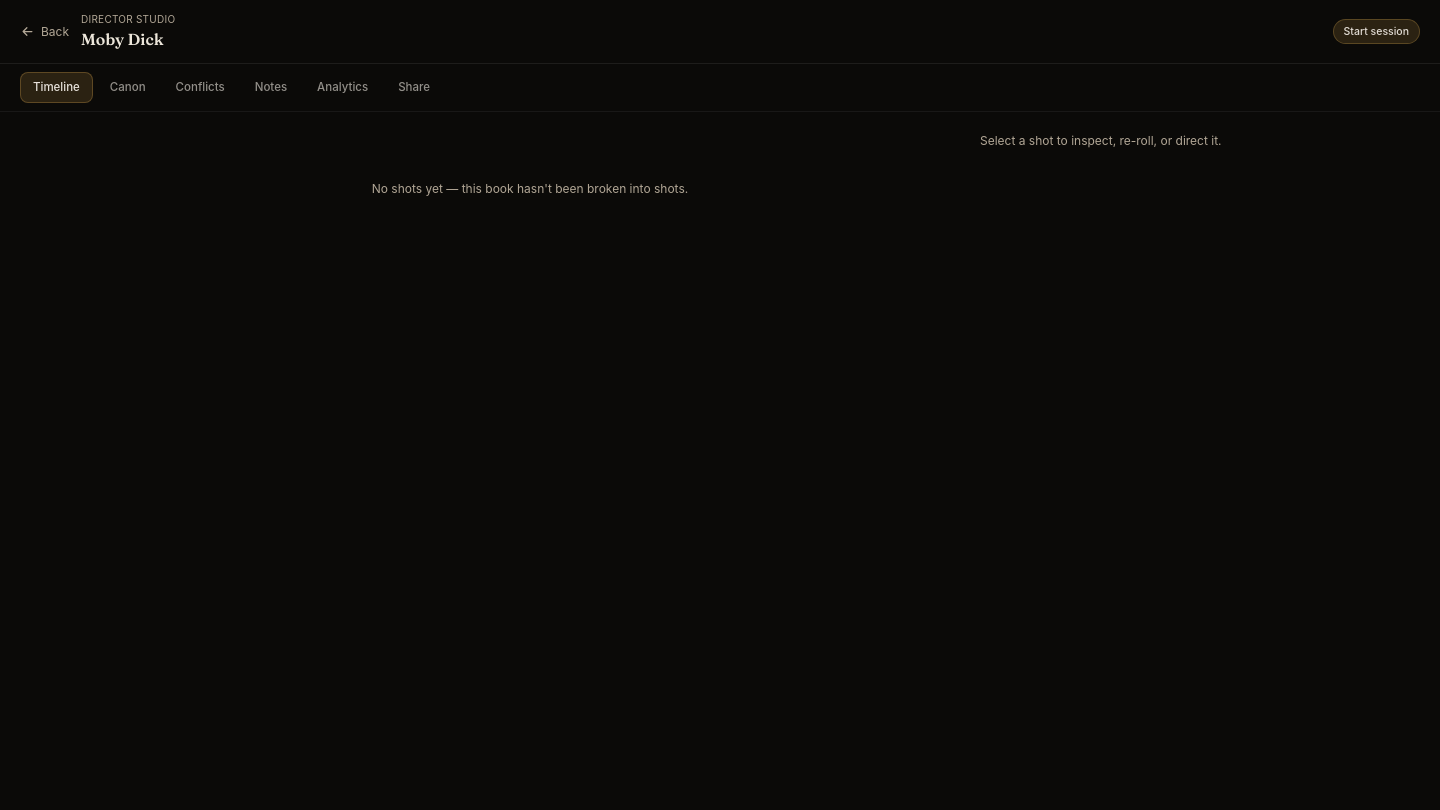
Test: DirectorStudio › switches tabs
This screenshot has width=1440, height=810.
Click the tab "Canon".
click(128, 88)  # box [97,72,159,103]
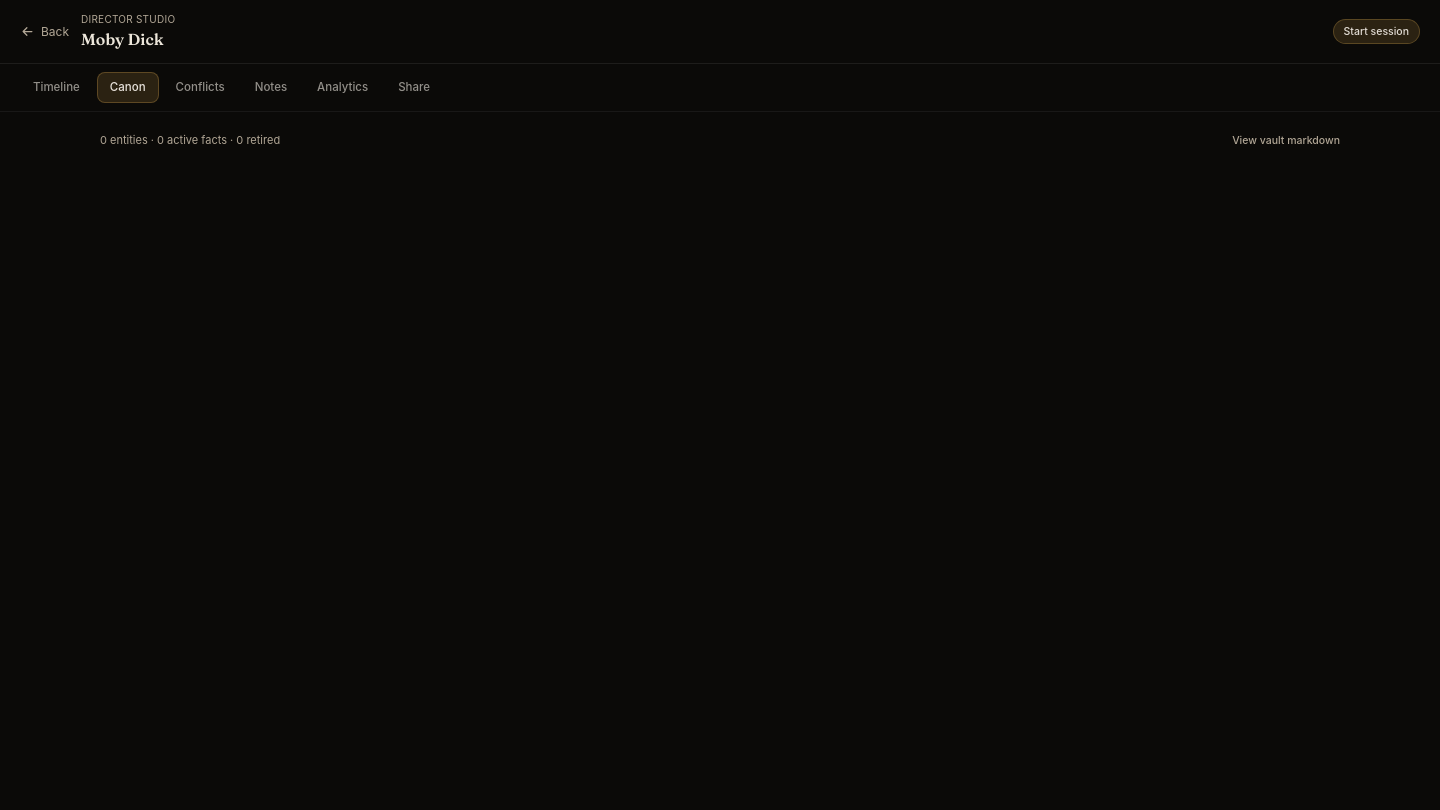
Expected: the text "0 entities · 0 active facts · 0 retired" is shown, [100,132,280,149]
Click the tab "Conflicts".
click(200, 88)  # box [163,72,238,103]
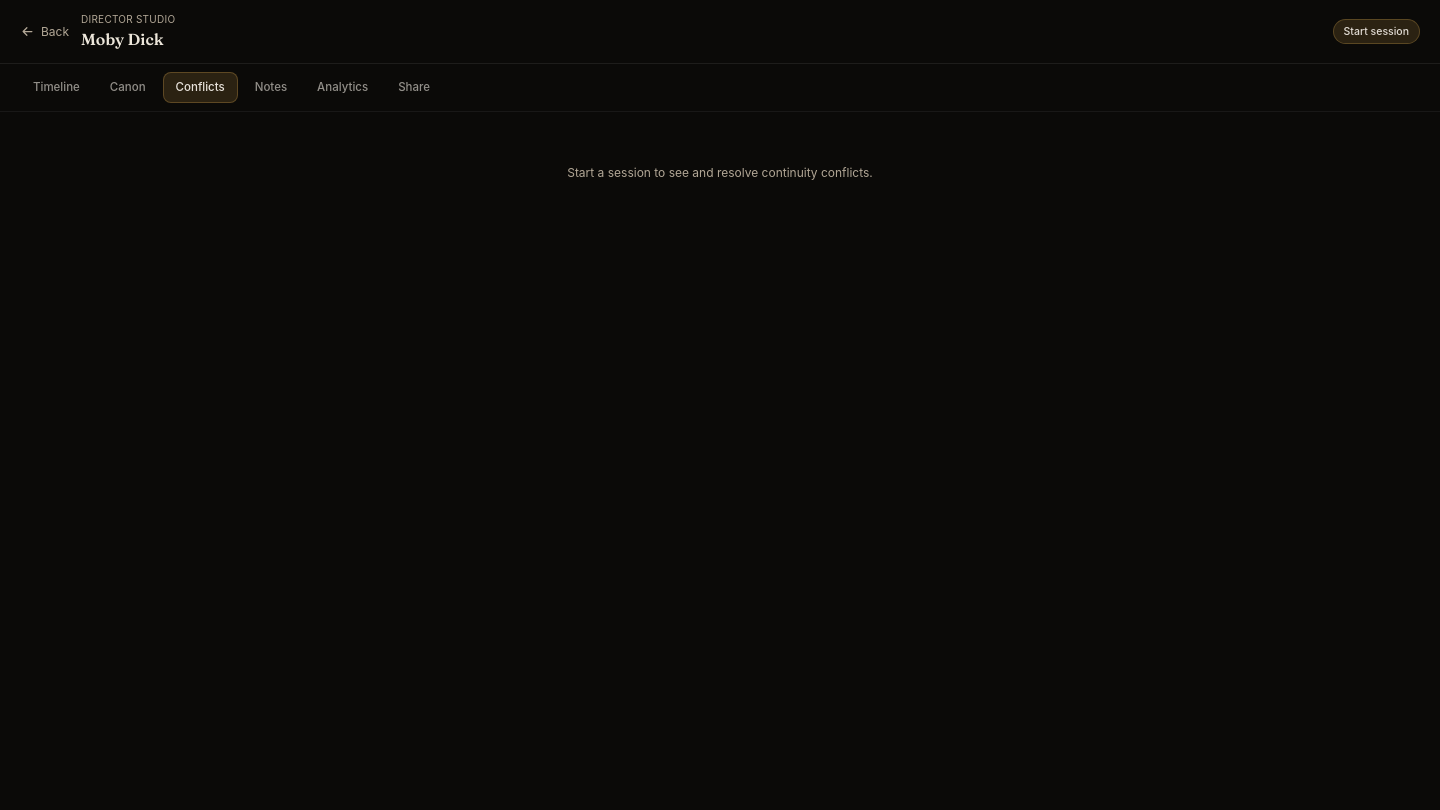
Expected: the text "Start a session to see and resolve continuity conflicts." is shown, [567,165,873,180]
